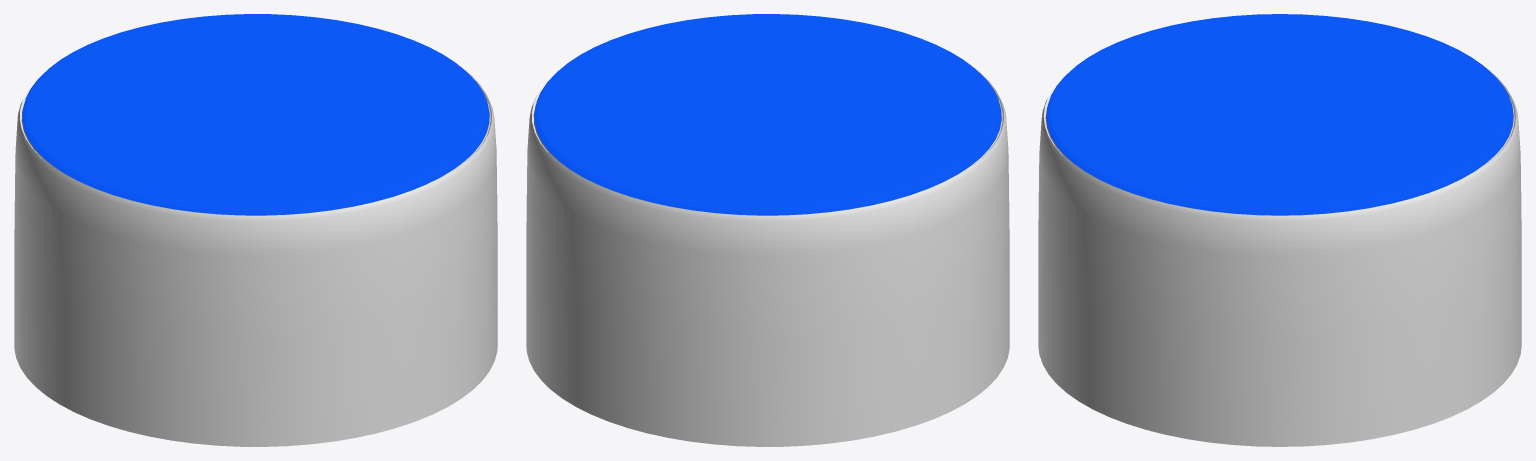
The model's file is Bottel cap.glb.
3 views of the same model, side by side, from view 1: azimuth 30°, elevation 25°; view 2: azimuth 150°, elevation 25°; view 3: azimuth 270°, elevation 25° (orthographic).
Parts seen in each view (by area): view 1: Digital Cap; view 2: Digital Cap; view 3: Digital Cap.
Boxes of the visible parts, <box> form: Digital Cap: <box>14,14,497,446</box>; Digital Cap: <box>526,14,1009,446</box>; Digital Cap: <box>1038,14,1521,446</box>.
Size of the model in its own units: 0.0883 by 0.0473 by 0.0883.
Materials: 4 (1 with a texture image).
